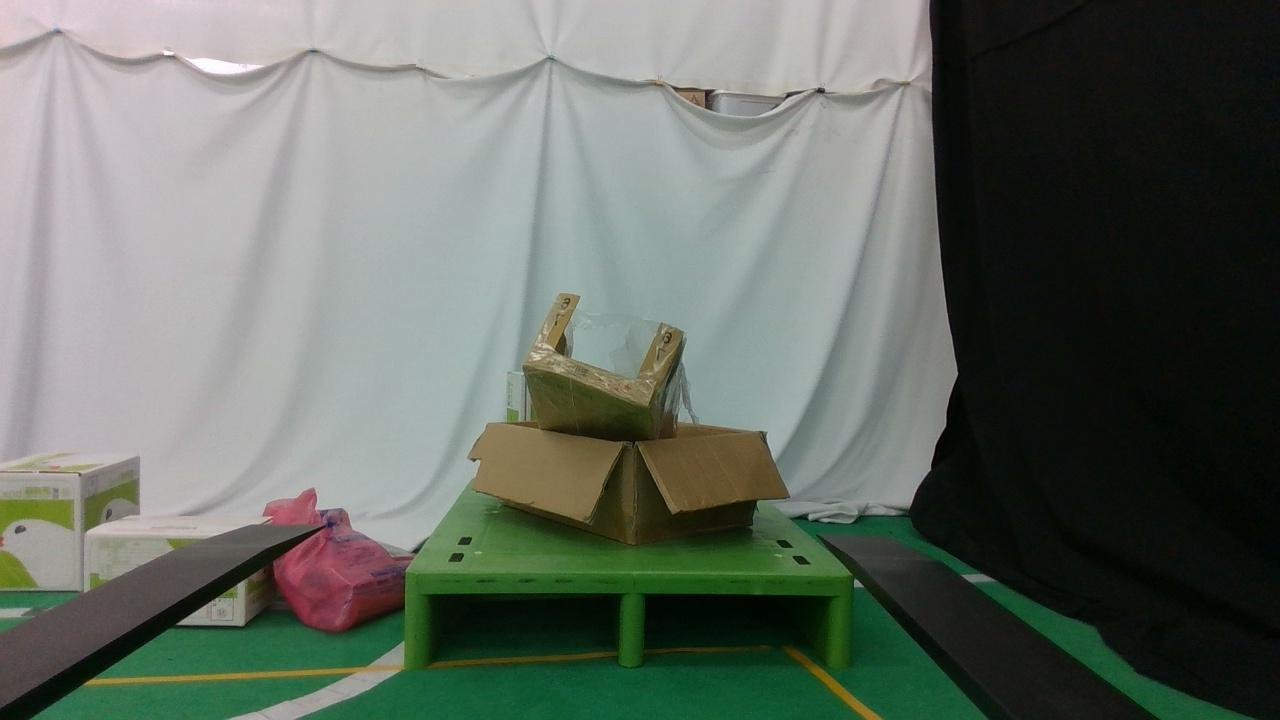Pallet: (401, 572, 855, 669)
